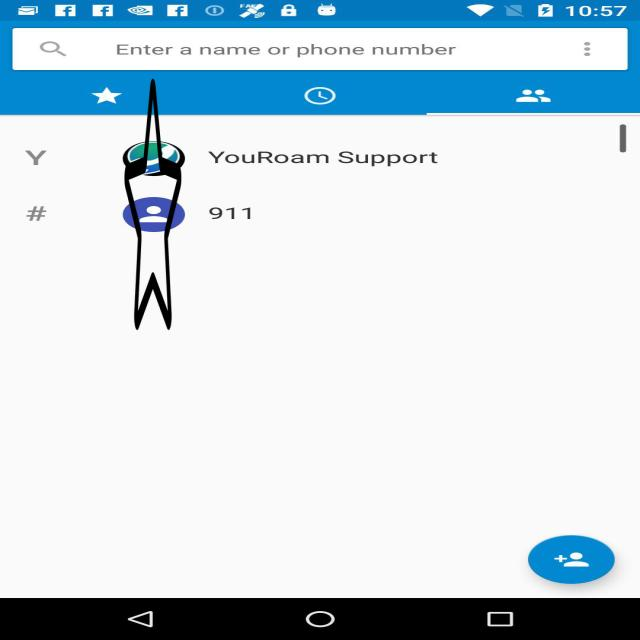forced continuity: (125, 73, 182, 335)
